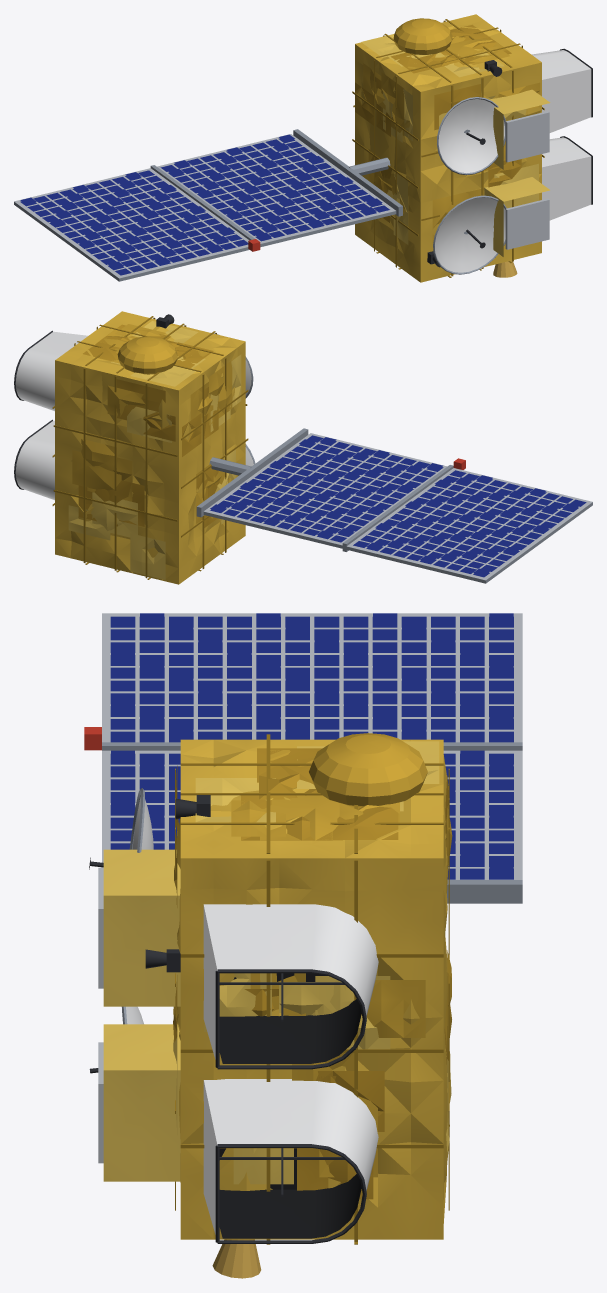
The model's file is insat-3d.glb.
The picture shows the model from 3 angles, top to bottom: view 1: azimuth 30°, elevation 25°; view 2: azimuth 150°, elevation 25°; view 3: azimuth 270°, elevation 25°; orthographic projection. The views are drawn at different scales.
Visible parts, largest first — view 1: body, foil, solar-panel; view 2: foil, solar-panel, body; view 3: foil, body, solar-panel.
Boxes of the visible parts, x1=… form: body: x1=14, y1=48, x2=592, y2=281; foil: x1=352, y1=14, x2=550, y2=282; solar-panel: x1=20, y1=134, x2=389, y2=275; foil: x1=52, y1=311, x2=248, y2=584; solar-panel: x1=210, y1=435, x2=586, y2=577; body: x1=14, y1=314, x2=592, y2=583; foil: x1=103, y1=733, x2=452, y2=1278; body: x1=84, y1=613, x2=522, y2=1243; solar-panel: x1=110, y1=613, x2=513, y2=879.
Bounding box in the file's own units: 6.63 × 3.02 × 2.5.
